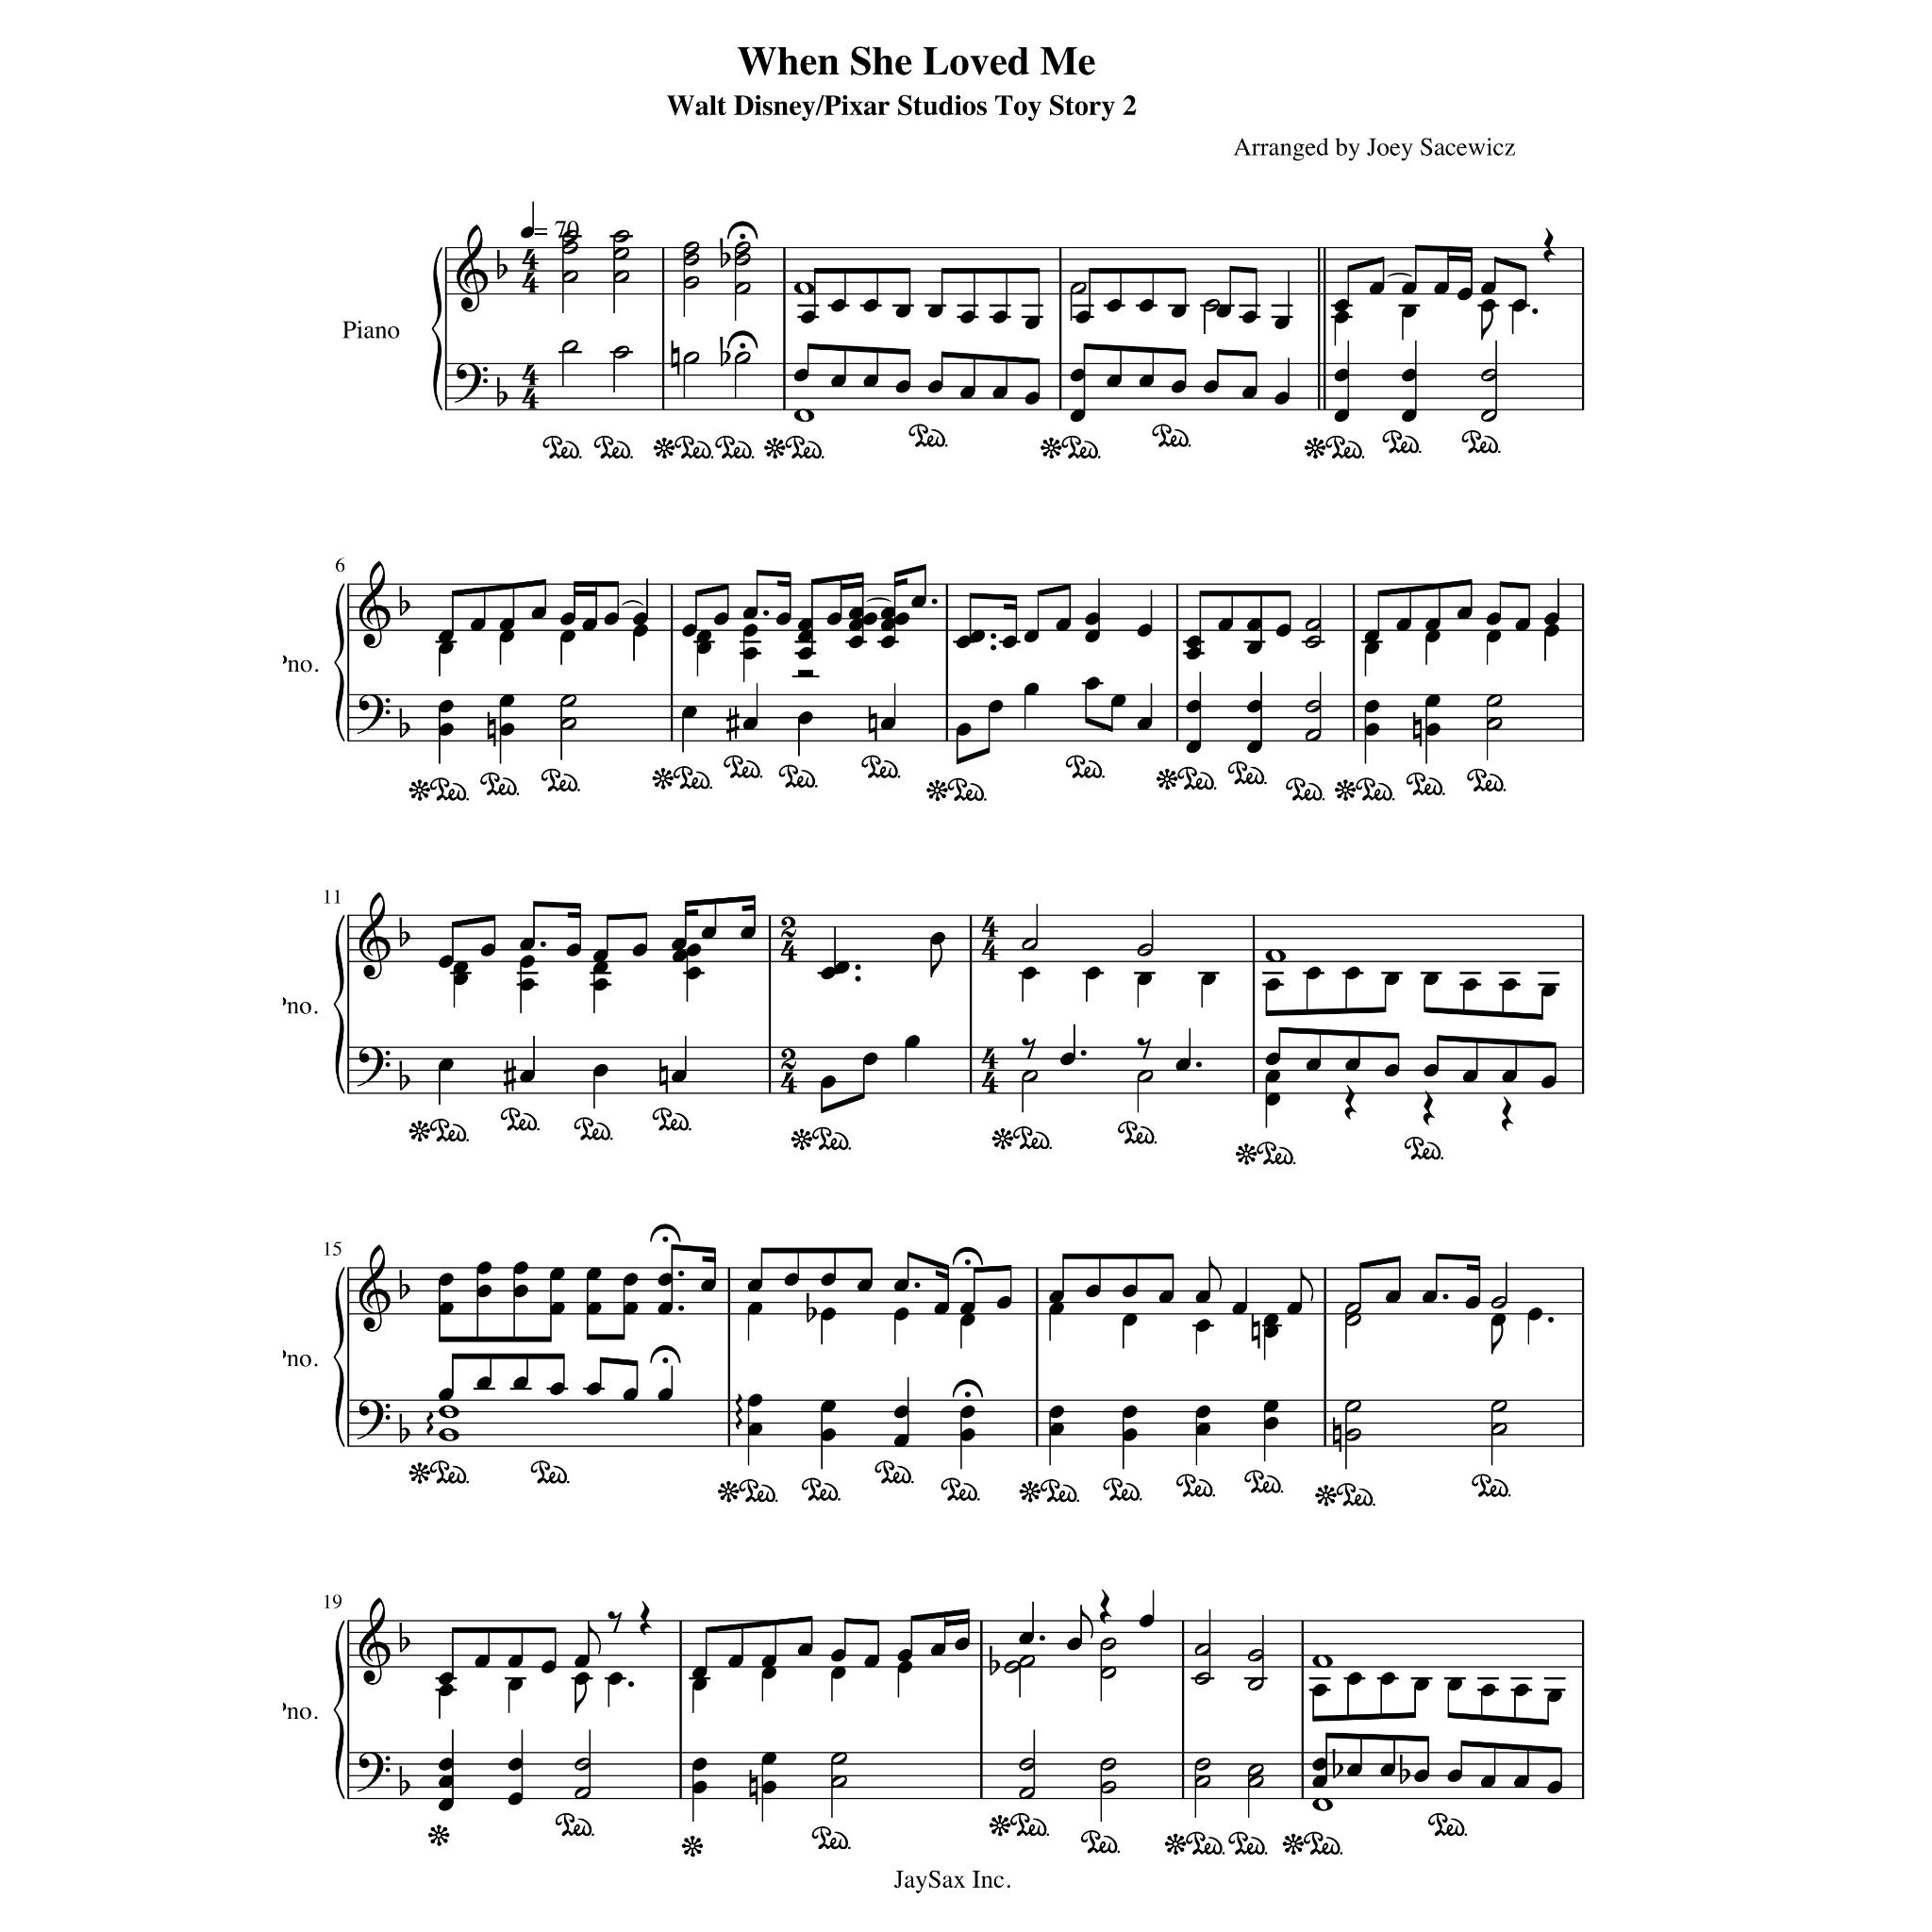brace: (333, 915, 345, 1095), (333, 1267, 345, 1447), (333, 1621, 345, 1799), (333, 582, 345, 741), (432, 248, 442, 410)
fClef: (453, 363, 488, 403), (357, 694, 391, 734), (357, 1047, 391, 1088), (357, 1399, 391, 1440), (357, 1752, 391, 1792)
flag8thDown: (1491, 1320, 1504, 1355), (573, 1679, 586, 1714), (1481, 306, 1493, 340), (931, 943, 943, 977)
flag8thUp: (587, 1621, 602, 1654), (1210, 1256, 1223, 1290), (1300, 1269, 1313, 1302), (1081, 1606, 1093, 1640)
gClef: (456, 225, 488, 313), (359, 561, 391, 649), (359, 892, 391, 980), (359, 1244, 391, 1332), (359, 1598, 391, 1686)
noteheadBlack: (1169, 304, 1187, 318), (559, 612, 577, 626), (559, 630, 577, 644), (1539, 984, 1557, 998), (1085, 1284, 1102, 1299), (573, 1654, 591, 1668), (830, 1649, 847, 1663), (1242, 386, 1258, 400), (1215, 304, 1231, 318), (1334, 368, 1350, 382), (1334, 409, 1350, 423), (1274, 391, 1290, 405), (1401, 368, 1417, 382), (1401, 409, 1417, 423), (1401, 304, 1417, 318), (1401, 281, 1417, 295), (1368, 281, 1384, 295), (1481, 281, 1497, 295), (1433, 281, 1449, 295), (793, 368, 809, 382), (993, 386, 1008, 400), (961, 386, 977, 400), (927, 304, 943, 318), (1069, 368, 1085, 382), (1069, 409, 1085, 423), (1024, 391, 1040, 405), (895, 304, 911, 318), (1217, 617, 1233, 632), (1185, 635, 1201, 649), (1246, 617, 1261, 632), (1276, 625, 1292, 639), (1023, 630, 1039, 644), (1023, 683, 1039, 697), (1001, 635, 1017, 649), (1054, 617, 1070, 632), (1111, 694, 1127, 708), (1136, 625, 1152, 639), (1136, 717, 1152, 731), (1085, 630, 1100, 644), (1085, 612, 1100, 626), (1085, 676, 1100, 690), (1514, 617, 1530, 632), (1545, 612, 1560, 626), (1545, 625, 1560, 639), (1486, 612, 1502, 626), (1486, 630, 1502, 644), (1364, 630, 1380, 644), (1424, 617, 1440, 632), (1396, 617, 1412, 632), (1424, 630, 1440, 644), (1424, 694, 1440, 708), (582, 617, 598, 632), (603, 612, 619, 626), (681, 625, 697, 639), (695, 630, 711, 644), (437, 630, 453, 644), (499, 694, 515, 708), (499, 617, 515, 632), (499, 630, 515, 644), (879, 617, 895, 632), (862, 612, 878, 626), (879, 635, 895, 649), (847, 617, 863, 632), (893, 612, 909, 626), (879, 717, 895, 731), (826, 612, 842, 626), (847, 635, 863, 649), (911, 594, 927, 609), (955, 635, 971, 649), (970, 630, 985, 644), (713, 612, 729, 626), (741, 625, 757, 639), (741, 717, 757, 731), (796, 630, 812, 644), (796, 617, 812, 632), (796, 711, 812, 725), (775, 612, 791, 626), (1265, 1092, 1281, 1106), (1265, 1069, 1281, 1083), (1306, 1058, 1322, 1072), (1345, 1058, 1361, 1072), (1175, 1058, 1191, 1072), (1502, 1069, 1518, 1083), (1422, 1063, 1438, 1077), (1384, 1063, 1399, 1077), (1461, 1069, 1477, 1083), (566, 943, 582, 957), (593, 1063, 609, 1077), (593, 961, 609, 975), (593, 948, 609, 962), (671, 1069, 686, 1083), (685, 943, 701, 957), (671, 948, 686, 962), (632, 943, 648, 957), (437, 1058, 453, 1072), (453, 961, 469, 975), (437, 954, 453, 968), (520, 1069, 536, 1083), (520, 954, 536, 968), (479, 943, 495, 957), (833, 961, 849, 975), (1194, 1290, 1210, 1304), (1159, 1290, 1175, 1304), (1263, 1313, 1279, 1327), (1263, 1399, 1279, 1414), (1194, 1422, 1210, 1437), (1194, 1318, 1210, 1332), (1049, 1422, 1065, 1437), (1049, 1290, 1065, 1304), (1122, 1313, 1138, 1327), (1122, 1284, 1138, 1299), (1122, 1428, 1138, 1442), (1490, 1313, 1506, 1327), (1422, 1290, 1438, 1304), (1385, 1290, 1401, 1304), (586, 1267, 602, 1281), (586, 1382, 602, 1396), (550, 1382, 566, 1396), (550, 1267, 566, 1281), (656, 1387, 672, 1401), (656, 1272, 672, 1286), (513, 1261, 529, 1276), (623, 1387, 639, 1401), (623, 1272, 639, 1286), (437, 1387, 453, 1401), (437, 1272, 453, 1286), (513, 1284, 529, 1299), (476, 1261, 492, 1276), (476, 1284, 492, 1299), (821, 1399, 837, 1414), (821, 1428, 837, 1442), (961, 1428, 977, 1442), (961, 1313, 977, 1327), (821, 1272, 837, 1286), (893, 1433, 909, 1447), (747, 1422, 763, 1437), (784, 1272, 800, 1286), (747, 1392, 763, 1407), (1311, 1757, 1327, 1771), (1311, 1775, 1327, 1789), (1138, 1614, 1154, 1628), (1546, 1780, 1562, 1794), (1513, 1775, 1529, 1789), (1479, 1775, 1495, 1789), (1447, 1677, 1463, 1691), (1414, 1677, 1430, 1691), (541, 1660, 557, 1674), (692, 1757, 708, 1771), (692, 1780, 708, 1794), (692, 1677, 708, 1691), (437, 1798, 453, 1812), (437, 1775, 453, 1789), (437, 1757, 453, 1771), (508, 1757, 524, 1771), (508, 1792, 524, 1806), (508, 1677, 524, 1691), (508, 1654, 524, 1668), (474, 1654, 490, 1668), (897, 1660, 913, 1674), (897, 1649, 913, 1663), (863, 1654, 879, 1668), (1019, 1631, 1035, 1645), (761, 1780, 777, 1794), (761, 1752, 777, 1766), (761, 1654, 777, 1668), (727, 1654, 743, 1668), (796, 1644, 812, 1658), (1169, 380, 1187, 393), (830, 299, 847, 311), (830, 375, 847, 387), (1539, 1076, 1557, 1088), (929, 932, 947, 945), (573, 1672, 591, 1684), (830, 1667, 847, 1679), (633, 612, 648, 626), (633, 625, 648, 639), (471, 617, 485, 632), (931, 1644, 945, 1658), (1242, 311, 1258, 324), (1274, 317, 1290, 329), (1203, 380, 1219, 393), (1334, 311, 1350, 324), (1334, 299, 1350, 311), (1106, 375, 1122, 387), (1106, 299, 1122, 311), (1138, 375, 1154, 387), (1138, 299, 1154, 311), (1511, 299, 1527, 311), (1481, 299, 1497, 311), (1458, 288, 1474, 301), (800, 311, 816, 324), (961, 311, 977, 324), (993, 311, 1008, 324), (927, 380, 943, 393), (1076, 311, 1092, 324), (1024, 317, 1040, 329), (863, 375, 879, 387), (863, 299, 879, 311), (895, 380, 911, 393), (1185, 741, 1201, 754), (1185, 701, 1201, 713), (1246, 642, 1261, 655), (1246, 741, 1261, 754), (1246, 701, 1261, 713), (987, 701, 1003, 713), (1185, 648, 1201, 660), (1364, 642, 1380, 655), (1364, 724, 1380, 736), (1364, 701, 1380, 713), (1458, 607, 1474, 619), (1424, 724, 1440, 736), (531, 607, 547, 619), (695, 642, 711, 655), (681, 706, 697, 718), (437, 642, 453, 655), (437, 724, 453, 736), (437, 701, 453, 713), (499, 724, 515, 736), (847, 607, 863, 619), (879, 607, 895, 619), (955, 724, 971, 736), (741, 607, 757, 619), (741, 648, 757, 660), (796, 648, 812, 660), (1345, 968, 1361, 980), (1306, 968, 1322, 980), (1136, 973, 1152, 985), (1085, 968, 1100, 980), (1060, 1053, 1076, 1065), (1265, 978, 1281, 991), (1201, 973, 1217, 985), (1265, 1053, 1281, 1065), (1384, 973, 1399, 985), (1422, 973, 1438, 985), (1502, 978, 1518, 991), (1461, 978, 1477, 991), (593, 978, 609, 991), (685, 968, 701, 980), (671, 938, 686, 950), (453, 973, 469, 985), (520, 978, 536, 991), (520, 938, 536, 950), (1021, 968, 1037, 980), (904, 1035, 920, 1047), (862, 1053, 878, 1065), (821, 1076, 837, 1088), (821, 968, 837, 980), (740, 927, 755, 939), (701, 927, 717, 939), (1122, 1405, 1138, 1417), (1263, 1325, 1279, 1338), (1231, 1302, 1247, 1315), (1263, 1417, 1279, 1430), (1194, 1405, 1210, 1417), (1049, 1405, 1065, 1417), (1049, 1302, 1065, 1315), (996, 1297, 1012, 1309), (1527, 1307, 1543, 1320), (1286, 1302, 1302, 1315), (1465, 1297, 1481, 1309), (586, 1302, 602, 1315), (550, 1302, 566, 1315), (513, 1376, 529, 1389), (961, 1405, 977, 1417), (656, 1302, 672, 1315), (623, 1302, 639, 1315), (437, 1302, 453, 1315), (476, 1376, 492, 1389), (856, 1279, 872, 1292), (821, 1307, 837, 1320), (961, 1302, 977, 1315), (934, 1302, 950, 1315), (893, 1405, 909, 1417), (893, 1307, 909, 1320), (893, 1279, 909, 1292), (747, 1302, 763, 1315), (747, 1279, 763, 1292), (701, 1279, 717, 1292), (1311, 1684, 1327, 1697), (1065, 1638, 1081, 1651), (1546, 1690, 1562, 1702), (1513, 1684, 1529, 1697), (1479, 1684, 1495, 1697), (1380, 1764, 1396, 1776), (1380, 1672, 1396, 1684), (1346, 1764, 1362, 1776), (1346, 1672, 1362, 1684), (1447, 1769, 1463, 1782), (1414, 1769, 1430, 1782), (607, 1672, 623, 1684), (692, 1667, 708, 1679), (437, 1672, 453, 1684), (437, 1684, 453, 1697), (954, 1638, 970, 1651), (761, 1667, 777, 1679)
noteheadHalf: (561, 340, 579, 354), (561, 230, 579, 244), (561, 241, 579, 255), (683, 241, 701, 255), (683, 253, 701, 267), (683, 276, 701, 290), (612, 345, 630, 359), (612, 230, 630, 244), (1304, 635, 1322, 649), (1304, 617, 1322, 632), (1304, 729, 1322, 743), (559, 694, 577, 708), (559, 717, 577, 731), (1490, 1399, 1507, 1414), (1490, 1422, 1507, 1437), (1194, 1757, 1212, 1771), (1194, 1775, 1212, 1789), (573, 1757, 591, 1771), (830, 1752, 847, 1766), (830, 1775, 847, 1789), (1017, 1757, 1035, 1771), (1017, 1654, 1035, 1668), (1481, 368, 1497, 382), (1481, 409, 1497, 423), (734, 241, 750, 255), (734, 253, 750, 267), (734, 281, 750, 295), (1070, 281, 1086, 295), (1486, 717, 1502, 731), (1486, 694, 1502, 708), (1138, 943, 1154, 957), (1345, 1399, 1361, 1414), (1345, 1428, 1361, 1442), (1345, 1313, 1361, 1327), (1247, 1677, 1263, 1691), (1247, 1649, 1263, 1663), (1247, 1775, 1263, 1789), (1100, 1780, 1116, 1794), (1100, 1757, 1116, 1771), (1003, 1660, 1019, 1674), (561, 271, 579, 283), (683, 352, 701, 364), (612, 248, 630, 260), (612, 271, 630, 283), (1304, 701, 1322, 713), (1021, 938, 1039, 950), (1021, 1070, 1039, 1083), (1490, 1297, 1507, 1309), (1194, 1644, 1212, 1656), (1194, 1672, 1212, 1684), (573, 1787, 591, 1799), (1017, 1787, 1035, 1799), (1203, 299, 1219, 311), (734, 352, 750, 364), (1138, 1070, 1154, 1083), (1345, 1302, 1361, 1315), (1247, 1764, 1263, 1776), (1100, 1638, 1116, 1651), (1100, 1667, 1116, 1679)
noteheadWhole: (1311, 1798, 1334, 1812), (1311, 1654, 1334, 1668), (793, 409, 814, 423), (793, 281, 814, 295), (1265, 948, 1286, 962), (437, 1428, 458, 1442), (437, 1405, 458, 1419)
rest8th: (607, 1612, 623, 1635), (1138, 1039, 1152, 1060), (1021, 1039, 1035, 1060)
restHalf: (791, 669, 819, 678)
restQuarter: (639, 1599, 651, 1637), (1543, 228, 1555, 264), (1345, 1085, 1357, 1120), (1500, 1097, 1513, 1132), (1099, 1589, 1111, 1624), (1422, 1092, 1435, 1125)
